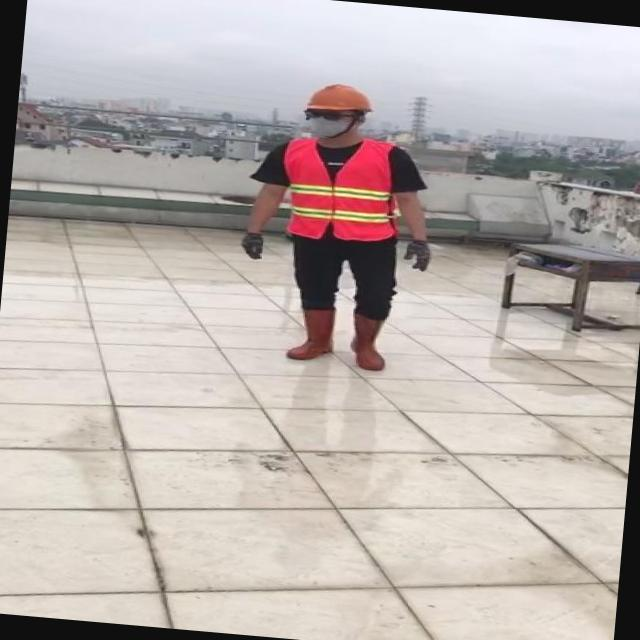boots: (286, 306, 337, 364), (344, 312, 392, 371)
gloves: (396, 224, 446, 284), (236, 206, 273, 268)
helmet: (302, 77, 380, 117)
vest: (280, 134, 404, 243)
